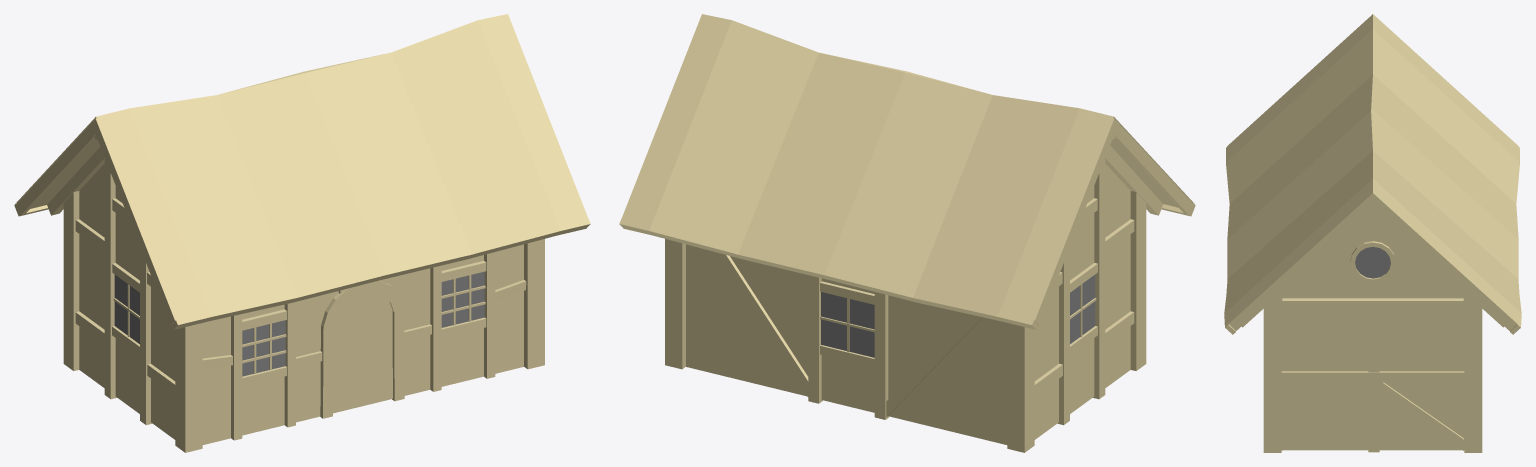
Rendered from SmallHouse.fbx.
3 renders of one model, left to right at view 1: azimuth 30°, elevation 25°; view 2: azimuth 150°, elevation 25°; view 3: azimuth 270°, elevation 25°, orthographic. The views are drawn at different scales.
Visible parts, largest first — view 1: building.01; view 2: building.01; view 3: building.01.
Part boxes in pixels (left/top/right/bottom): building.01: left=14, top=14, right=590, bottom=452; building.01: left=619, top=14, right=1195, bottom=452; building.01: left=1224, top=14, right=1521, bottom=452.
Size of the model in its own units: 803 by 565 by 558.
